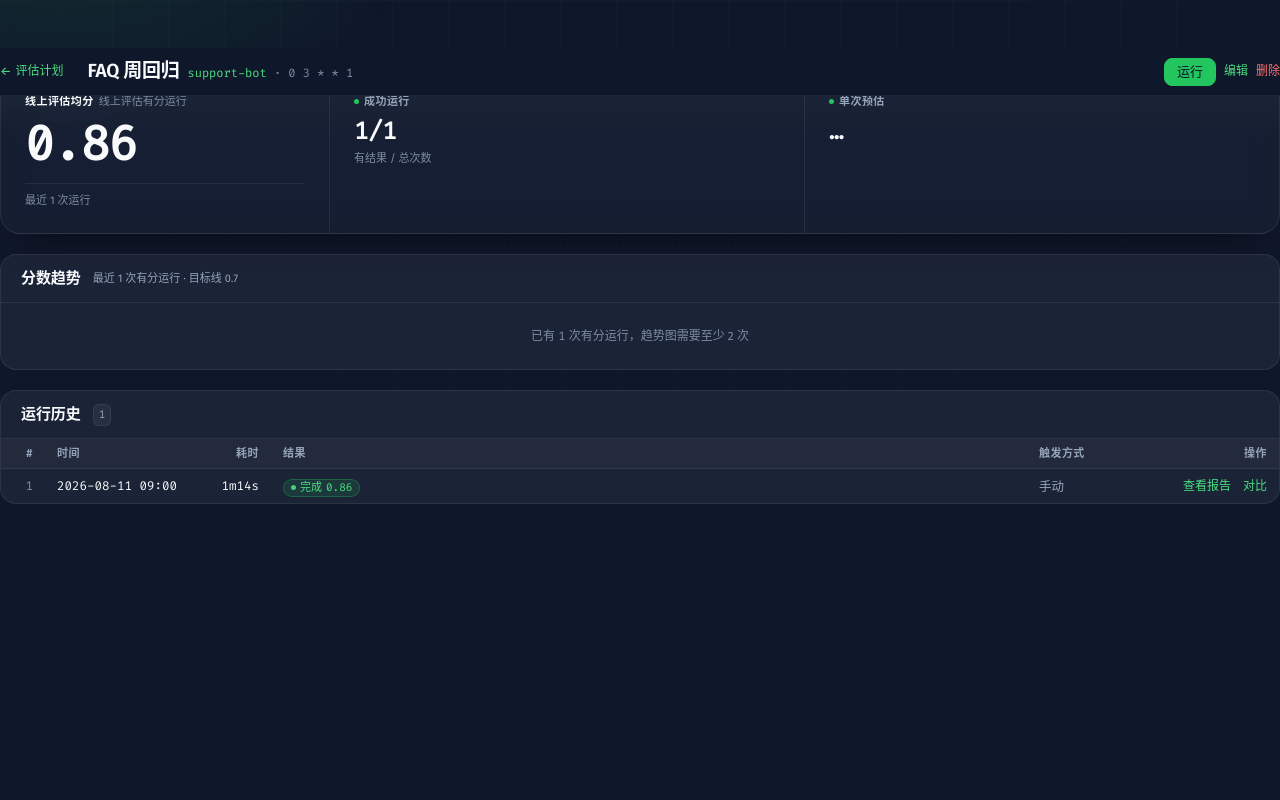
交付 1：断流 ≠ 失败，转 get_plan_run 轮询 › 首帧之前就断（没有 run_key）：仍走既有断流兜底，绝不空轮询
Check: the table with test id "plan-runs-table" is shown, box [1, 440, 1279, 504]
Click the button with test id "plan-run" at point(1190, 72), box [1164, 58, 1216, 86]
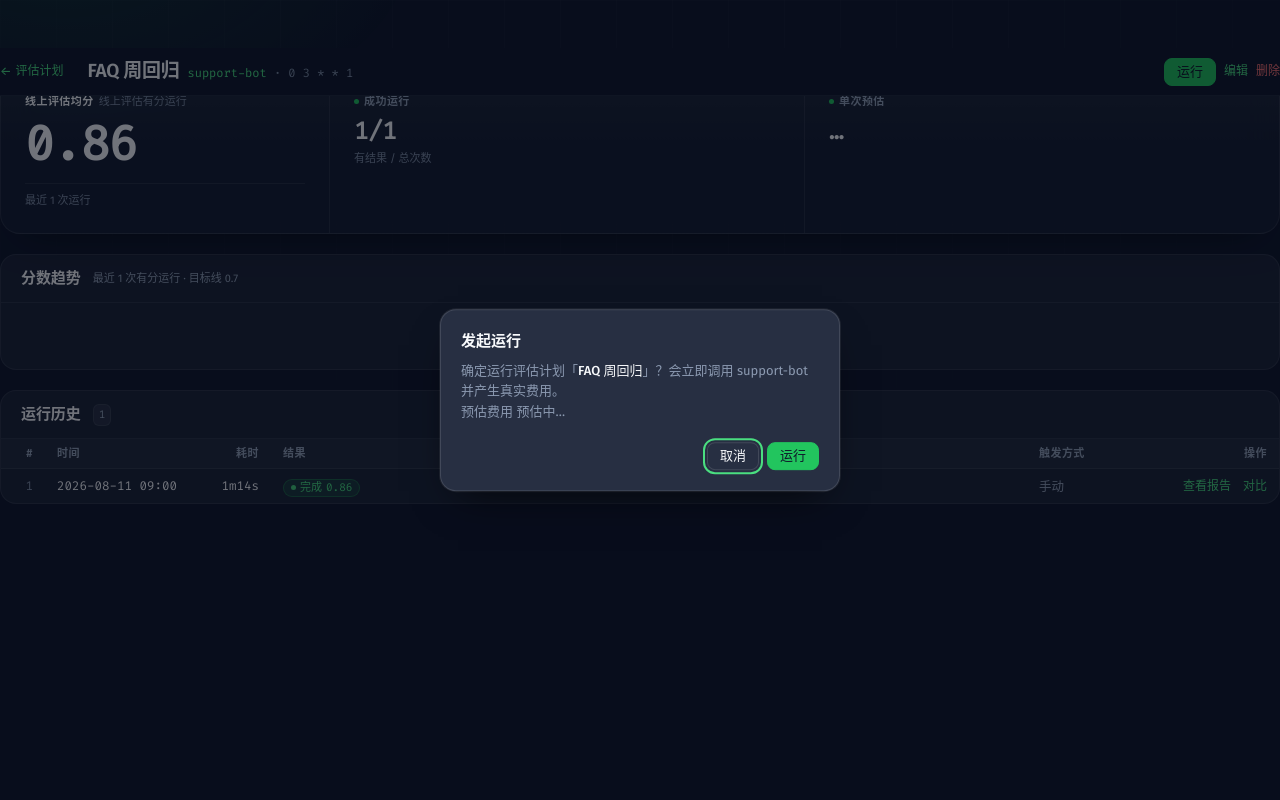
Click the button with test id "confirm-card-ok" at point(793, 456), box [767, 442, 819, 470]
Wait 20000 ms
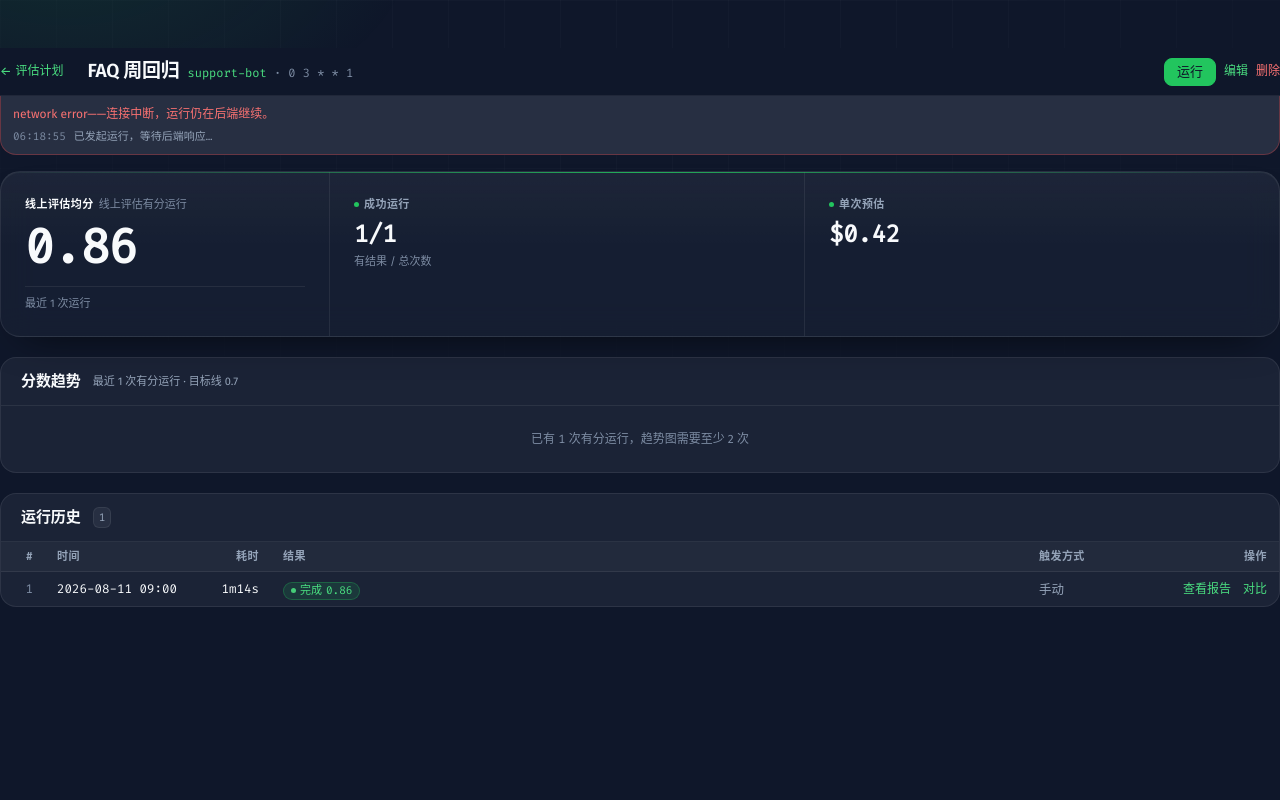
Check: the message "连接中断 · 用时 00:00 关闭 network error——连接中断，运行仍在后端继续。 06:18:55 已发起运行，等待后端响应…" is shown, box [0, 68, 1279, 155]
